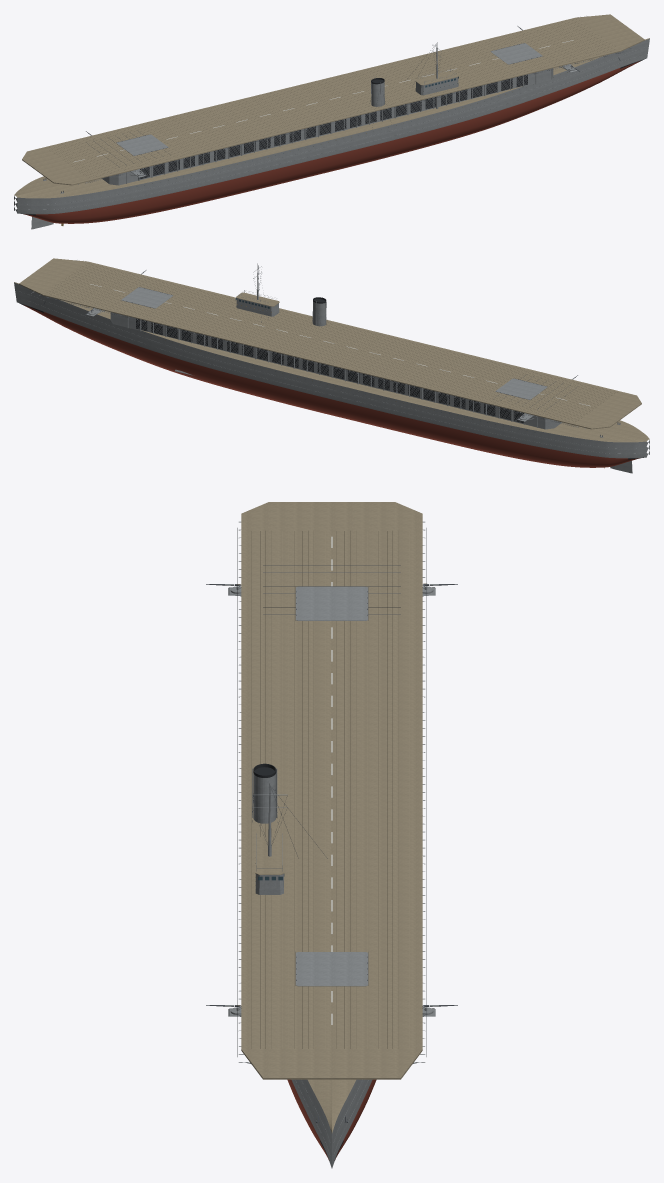
The model's file is fallback-cv.glb.
3 views of the same model, one above another, from view 1: azimuth 30°, elevation 25°; view 2: azimuth 150°, elevation 25°; view 3: azimuth 270°, elevation 25° (orthographic). The views are drawn at different scales.
Visible parts, largest first — view 1: Original CV custom-design concept; view 2: Original CV custom-design concept; view 3: Original CV custom-design concept.
Boxes of the visible parts, <box> form: Original CV custom-design concept: <box>14,14,649,229</box>; Original CV custom-design concept: <box>14,258,649,473</box>; Original CV custom-design concept: <box>206,502,457,1168</box>.
Bounding box in the file's own units: 218 × 34.65 × 37.48.
8 materials, 2 textured.
